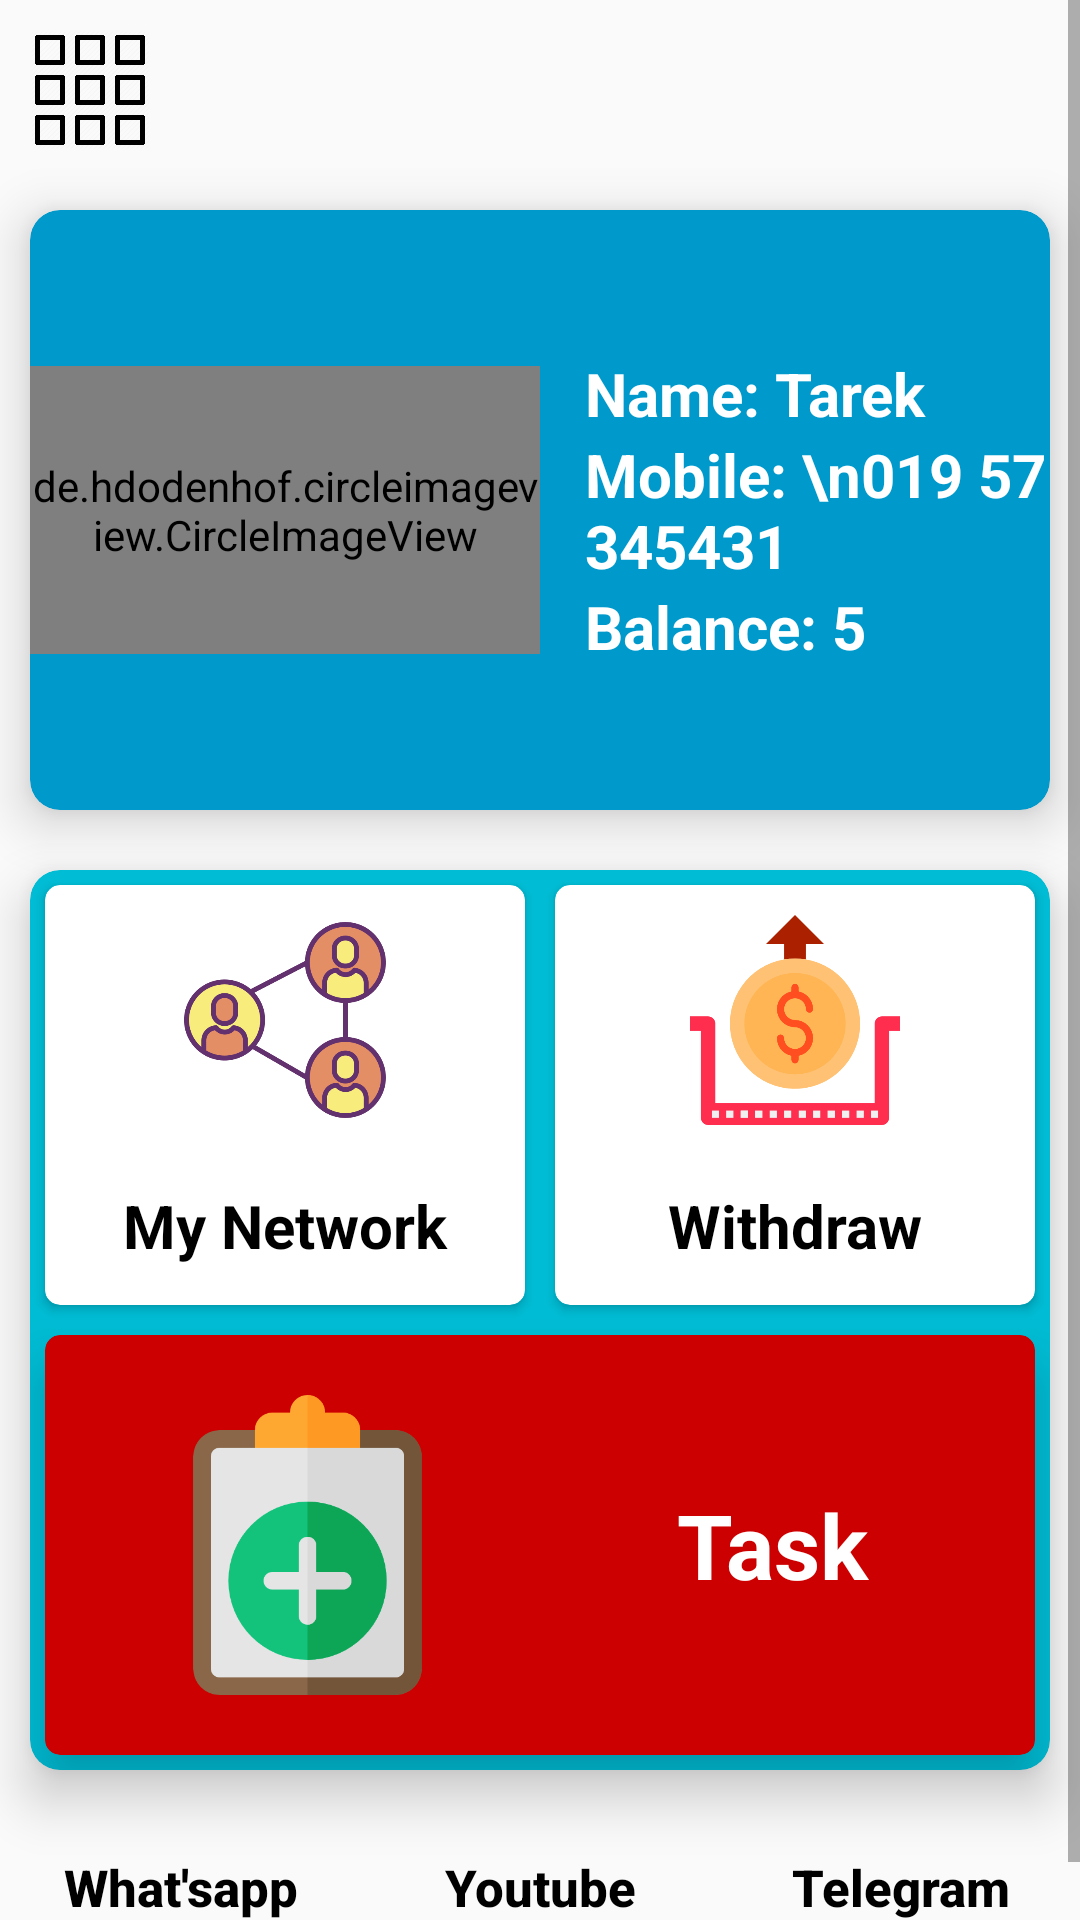

Screen size 1080px x 1920px. Icon name, then its center in pixels as (x,y):
drawer: (90,90)
